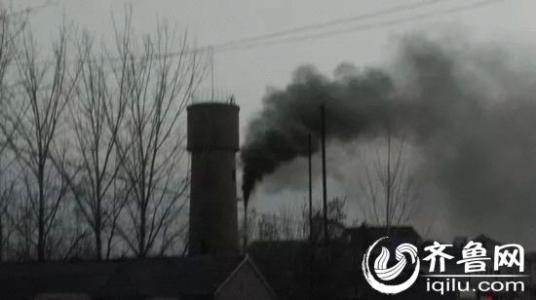smoke: (240, 59, 410, 187)
